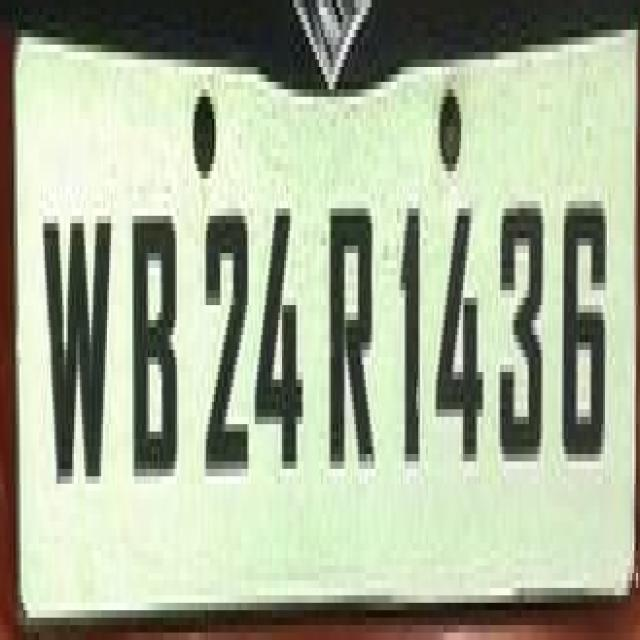license_plate: (23, 8, 640, 618)
